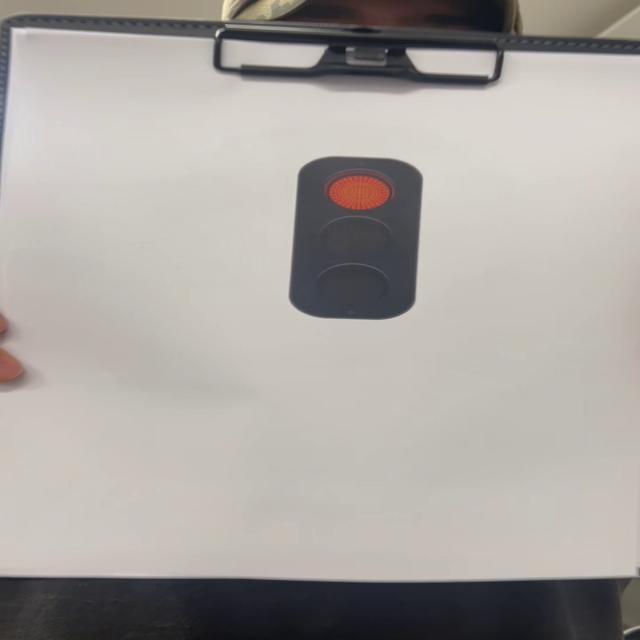red: (290, 156, 424, 321)
